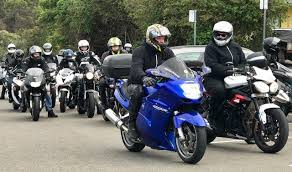helmet: (142, 23, 175, 54), (209, 22, 239, 49), (107, 31, 125, 56), (76, 37, 95, 57), (40, 41, 59, 60), (27, 42, 41, 59)
